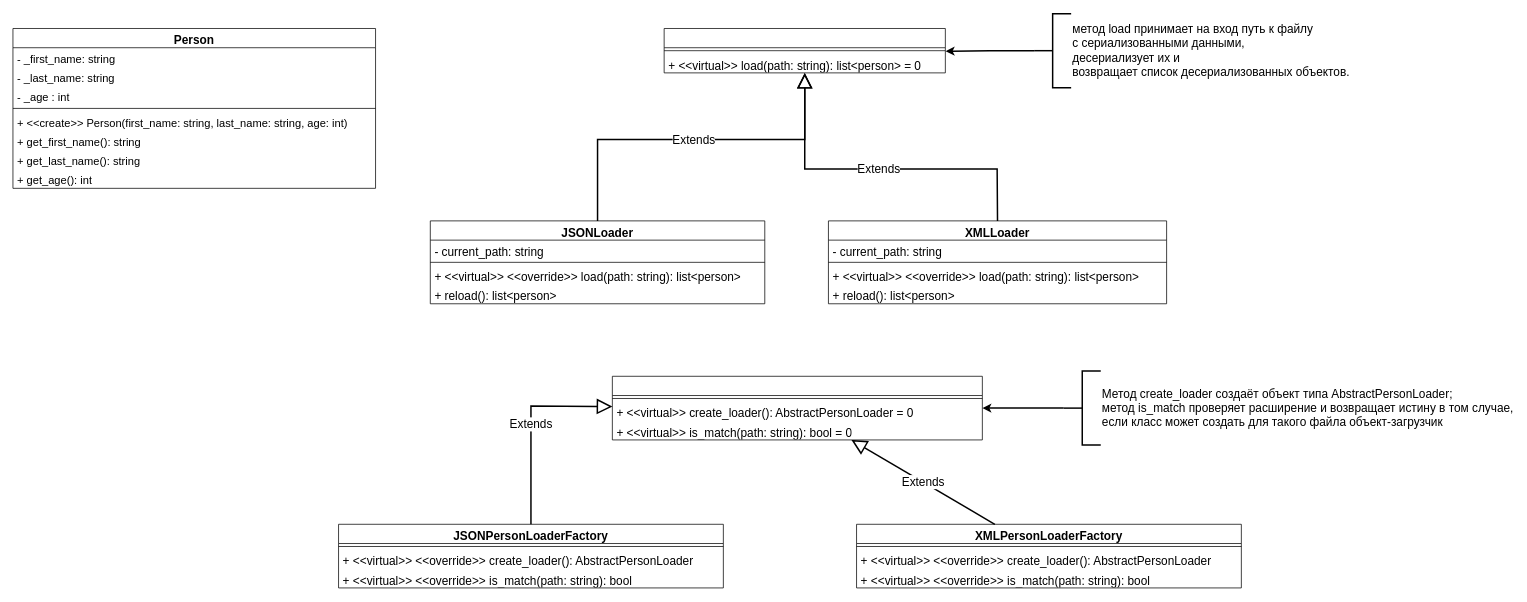
Some shapes in this 1527 by 602 pixel diagram are drawn without their labels. Here are the shapes that lost their labels. From the top down, the box of each, then its label:
(663, 28, 945, 73): AbstractPersonLoader
(612, 376, 982, 440): AbstractPersonLoaderFactory
